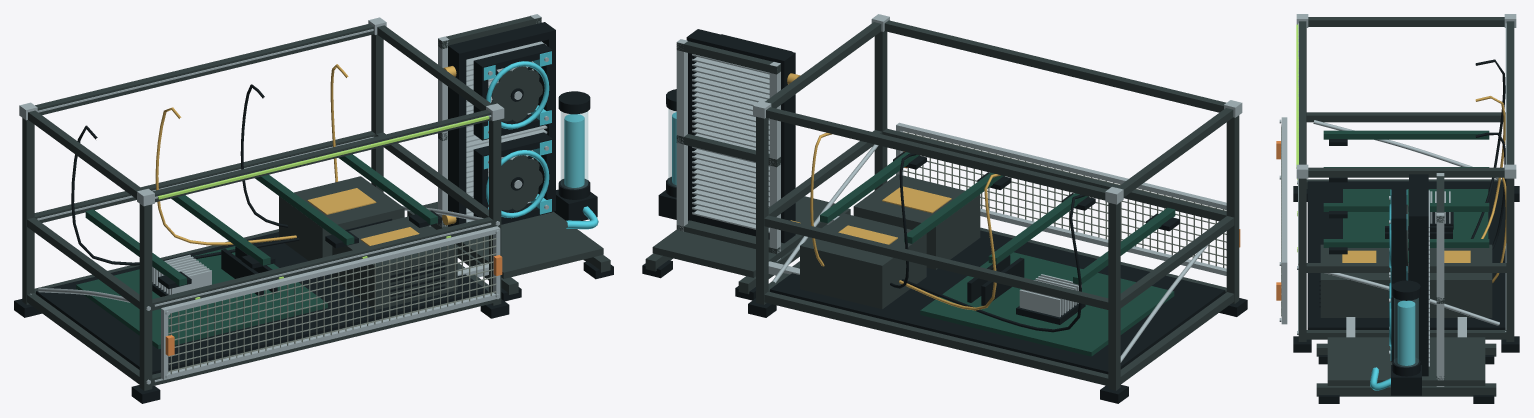
Rendered from rig-4-frame-filtered-liquid.glb.
The picture shows the model from 3 angles, left to right: view 1: azimuth 30°, elevation 25°; view 2: azimuth 150°, elevation 25°; view 3: azimuth 270°, elevation 25°; orthographic projection. The views are drawn at different scales.
Visible parts, largest first — view 1: Anodized graphite (×4), Rubber and ABS (×5), Brushed aluminium (×3), Circuit board, Filter fibres, Coolant blue (×3), cooling-liquid, Contacts, rig-4-frame-filtered-liquid, slot-cable-1, slot-cable-2, slot-cable-3; view 2: Anodized graphite (×2), Rubber and ABS (×3), Brushed aluminium (×3), Circuit board, Filter fibres, Contacts, slot-cable-1, slot-cable-2, cooling-liquid; view 3: Anodized graphite (×2), Rubber and ABS (×5), Circuit board, Brushed aluminium (×3), Coolant blue (×2), cooling-liquid, Contacts, slot-cable-1, slot-cable-2, rig-4-frame-filtered-liquid, slot-cable-3, slot-cable-4.
Part boxes in pixels (left/top/right/bottom): Anodized graphite (×4): left=22, top=16, right=610, bottom=390; Rubber and ABS (×5): left=14, top=22, right=613, bottom=403; Brushed aluminium (×3): left=19, top=14, right=547, bottom=384; Circuit board: left=76, top=154, right=437, bottom=349; Filter fibres: left=168, top=235, right=496, bottom=374; Coolant blue (×3): left=483, top=51, right=598, bottom=229; cooling-liquid: left=561, top=111, right=587, bottom=189; Contacts: left=307, top=188, right=419, bottom=246; rig-4-frame-filtered-liquid: left=158, top=116, right=489, bottom=199; slot-cable-1: left=71, top=125, right=299, bottom=265; slot-cable-2: left=155, top=107, right=296, bottom=245; slot-cable-3: left=240, top=84, right=287, bottom=227; Anodized graphite (×2): left=645, top=20, right=1239, bottom=390; Rubber and ABS (×3): left=642, top=29, right=1247, bottom=403; Brushed aluminium (×3): left=676, top=14, right=1242, bottom=362; Circuit board: left=820, top=152, right=1175, bottom=356; Filter fibres: left=903, top=132, right=1226, bottom=267; Contacts: left=838, top=186, right=951, bottom=244; slot-cable-1: left=901, top=194, right=1084, bottom=332; slot-cable-2: left=899, top=174, right=1000, bottom=310; cooling-liquid: left=668, top=109, right=676, bottom=186; Anodized graphite (×2): left=1298, top=17, right=1514, bottom=396; Rubber and ABS (×5): left=1293, top=139, right=1519, bottom=403; Circuit board: left=1323, top=130, right=1489, bottom=262; Brushed aluminium (×3): left=1281, top=14, right=1516, bottom=386; Coolant blue (×2): left=1370, top=190, right=1415, bottom=390; cooling-liquid: left=1394, top=298, right=1418, bottom=366; Contacts: left=1342, top=250, right=1470, bottom=262; slot-cable-1: left=1471, top=59, right=1505, bottom=238; slot-cable-2: left=1475, top=96, right=1505, bottom=238; rig-4-frame-filtered-liquid: left=1296, top=24, right=1298, bottom=168; slot-cable-3: left=1475, top=132, right=1506, bottom=249; slot-cable-4: left=1492, top=177, right=1506, bottom=282.
Size of the model in its own units: 8.43 by 3.32 by 3.94.
